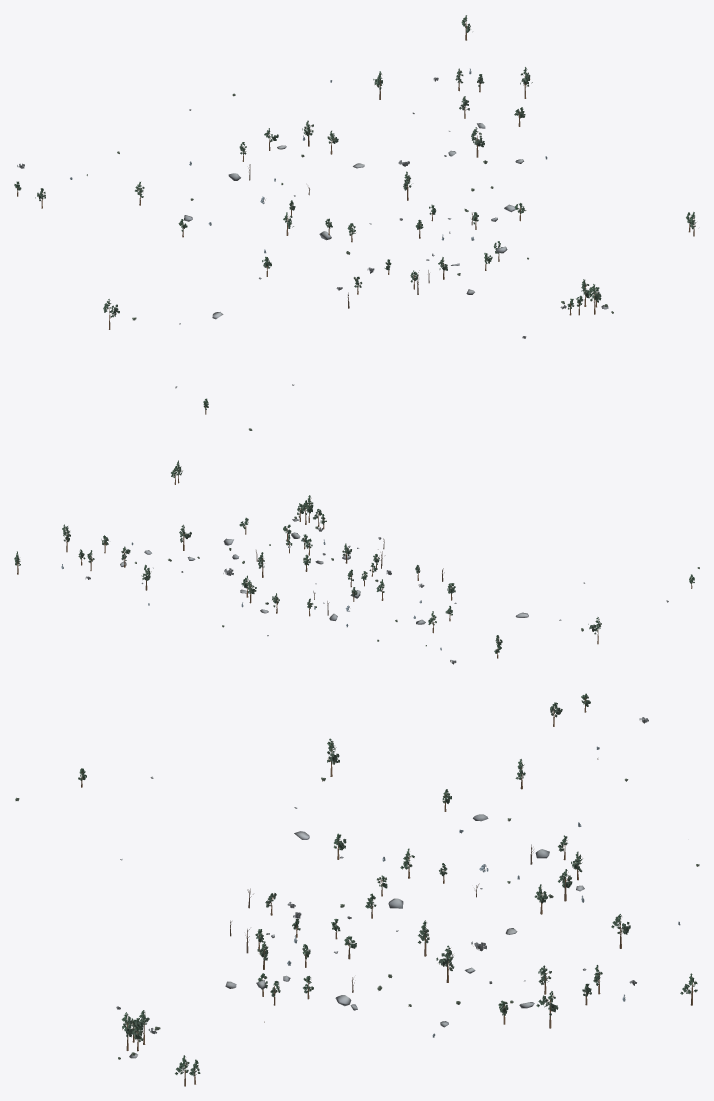
Rendered from frost_land_scatter_c18_09.glb.
The picture shows the model from 3 angles, top to bottom: view 1: azimuth 30°, elevation 25°; view 2: azimuth 150°, elevation 25°; view 3: azimuth 270°, elevation 25°; orthographic projection. The views are drawn at different scales.
Parts seen in each view (by area): view 1: frost_land_scatter_c18_09; view 2: frost_land_scatter_c18_09; view 3: frost_land_scatter_c18_09.
Boxes of the visible parts, x1,y1,x2,y2 form: frost_land_scatter_c18_09: (14,15,696,430); frost_land_scatter_c18_09: (14,460,699,664); frost_land_scatter_c18_09: (15,693,699,1086).
Size of the model in its own units: 250 by 50.33 by 221.
